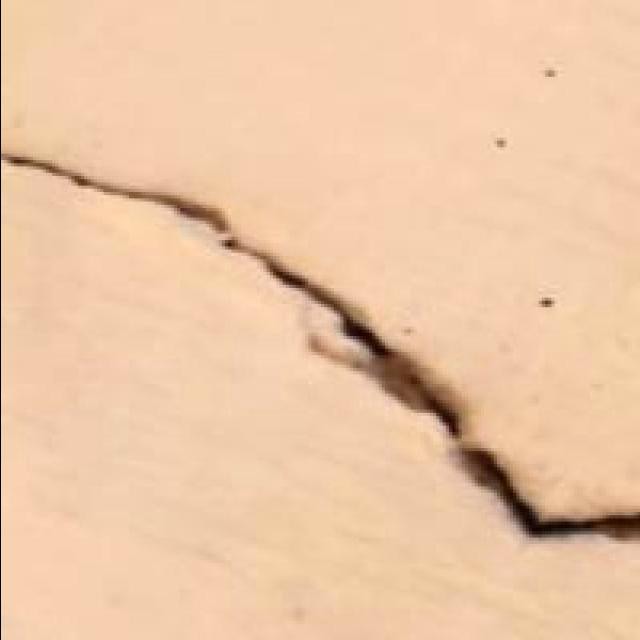SurfaceCrack: (0, 54, 638, 560)
